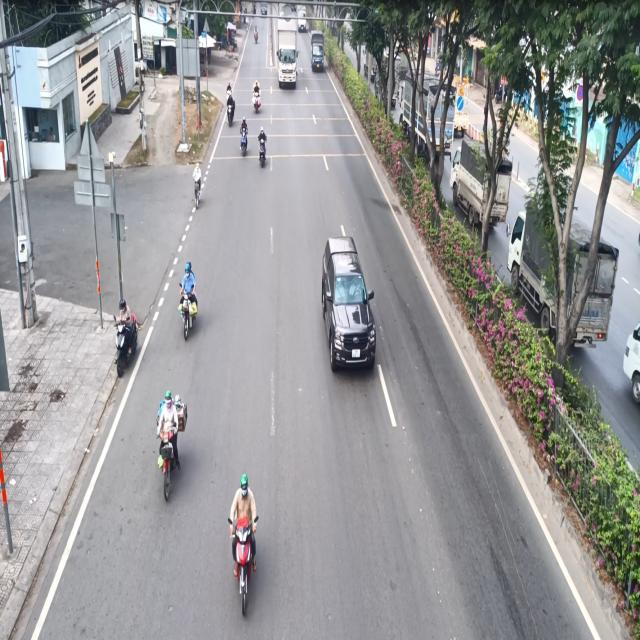car: (321, 225, 378, 375)
motor: (227, 470, 262, 626), (152, 384, 187, 509), (113, 298, 142, 377), (180, 263, 198, 341), (237, 112, 250, 166), (257, 122, 268, 169), (252, 80, 262, 114)
truck: (274, 13, 300, 88), (310, 25, 327, 76)
